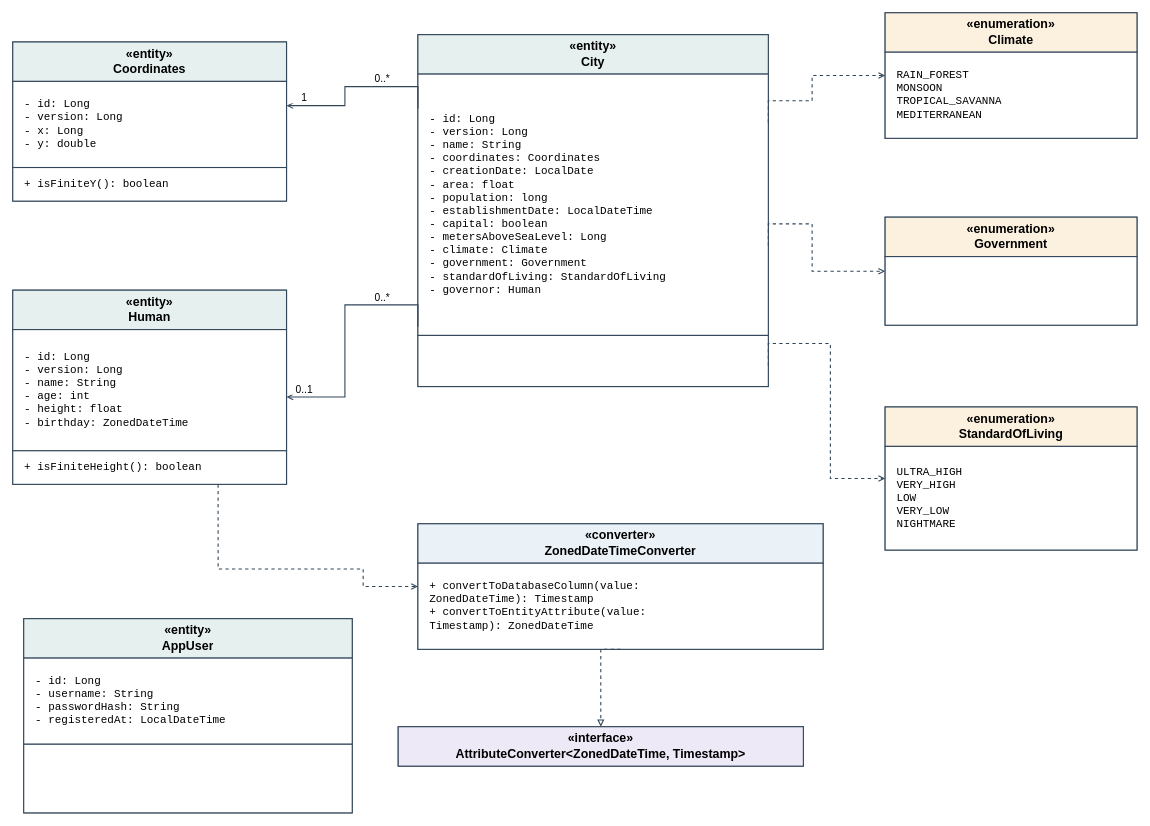
The diagram is 1150 pixels wide and 826 high, and some of its shapes have lost their labels. Here are the shapes that lost their labels. From the top down, the centre of each, then its label:
At (x=1010, y=290): "ANARCHY DESPOTISM ETHNOCRACY".
At (x=593, y=361): "~ initialize(): void + isFiniteArea(): boolean".
At (x=187, y=778): "~ initialize(): void + getUsername(): String + getPasswordHash(): String".
